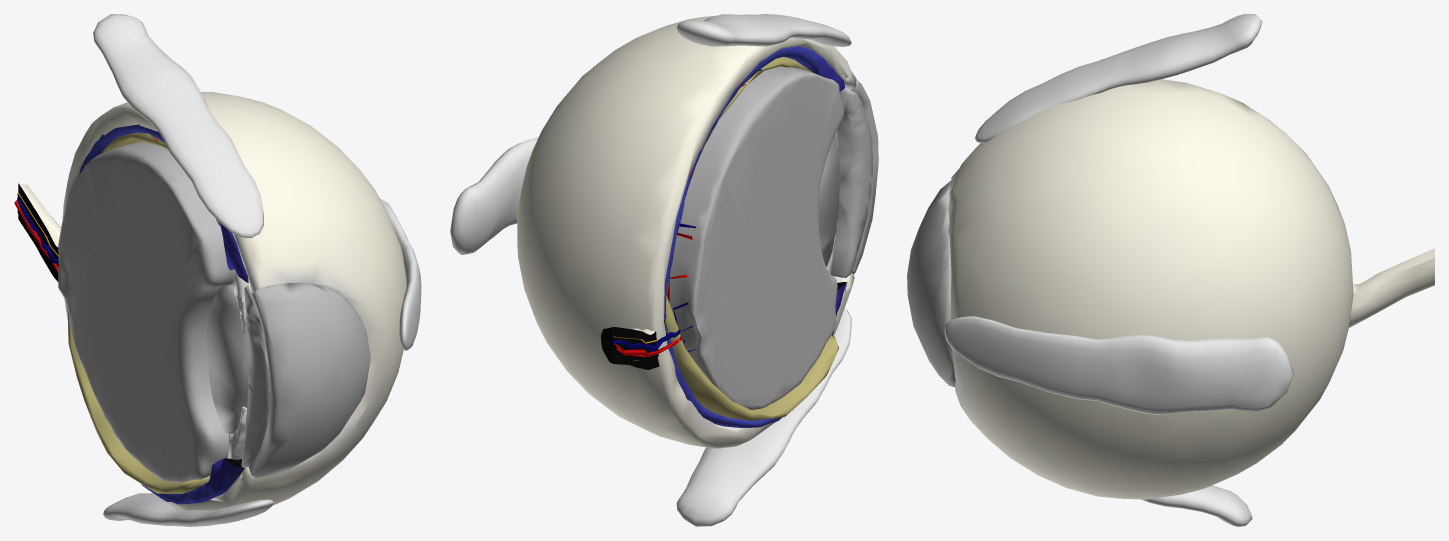
The model's file is Human eye.fbx.
3 renders of one model, left to right at view 1: azimuth 30°, elevation 25°; view 2: azimuth 150°, elevation 25°; view 3: azimuth 270°, elevation 25°, orthographic.
Visible parts, largest first — view 1: Vitreous chamber.002, Sclera.002, Muscle1, Cornea1.002, Lens.002, Optic_part_of_right_retina.002, Anterior_chamber.002, Choroid.002, Muscle2, Right_optic_nerve2.002, Posterior_chamber.002, Right_optic_nerve1.002; view 2: Sclera.002, Vitreous chamber.002, Muscle1, Anterior_chamber.002, Muscle2, Optic_part_of_right_retina.002, Choroid.002, Lens.002, Cornea1.002, Right_optic_nerve2.002, Right_optic_nerve1.002, Retinal_veins.002 (+1 smaller); view 3: Sclera.002, Muscle2, Muscle1, Cornea1.002, Right_optic_nerve2.002.
Boxes of the visible parts, bbox=[...] form: Vitreous chamber.002: bbox=[58, 141, 235, 482]; Sclera.002: bbox=[62, 92, 406, 510]; Muscle1: bbox=[93, 14, 273, 526]; Cornea1.002: bbox=[248, 283, 370, 477]; Lens.002: bbox=[207, 283, 249, 433]; Optic_part_of_right_retina.002: bbox=[67, 132, 219, 493]; Anterior_chamber.002: bbox=[241, 285, 270, 467]; Choroid.002: bbox=[79, 124, 248, 504]; Muscle2: bbox=[380, 199, 421, 350]; Right_optic_nerve2.002: bbox=[18, 183, 60, 281]; Posterior_chamber.002: bbox=[227, 272, 248, 459]; Right_optic_nerve1.002: bbox=[17, 192, 58, 269]; Sclera.002: bbox=[517, 15, 856, 448]; Vitreous chamber.002: bbox=[667, 66, 843, 409]; Muscle1: bbox=[676, 14, 851, 526]; Anterior_chamber.002: bbox=[831, 87, 872, 277]; Muscle2: bbox=[450, 137, 538, 254]; Optic_part_of_right_retina.002: bbox=[665, 57, 838, 420]; Choroid.002: bbox=[664, 46, 846, 427]; Lens.002: bbox=[818, 134, 840, 267]; Cornea1.002: bbox=[850, 80, 878, 274]; Right_optic_nerve2.002: bbox=[601, 319, 665, 369]; Right_optic_nerve1.002: bbox=[605, 331, 666, 360]; Retinal_veins.002: bbox=[613, 69, 761, 351]; Sclera.002: bbox=[948, 79, 1353, 499]; Muscle2: bbox=[944, 316, 1293, 414]; Muscle1: bbox=[974, 14, 1262, 526]; Cornea1.002: bbox=[907, 181, 955, 386]; Right_optic_nerve2.002: bbox=[1348, 248, 1434, 327].
Size of the model in its own units: 19.67 by 33.9 by 32.31.
